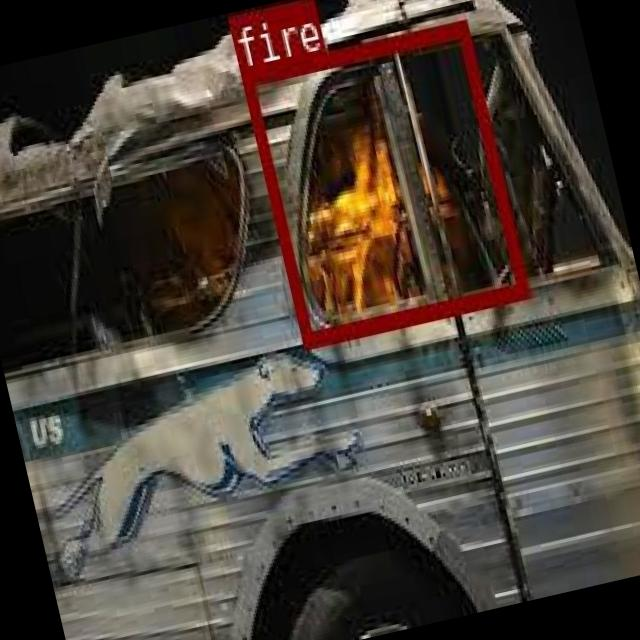fire: (238, 19, 526, 346)
